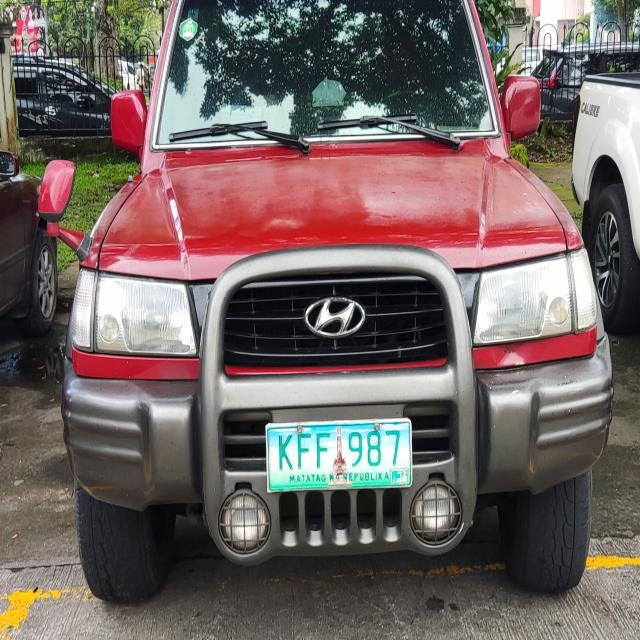LicensePlate: (258, 417, 420, 496)
